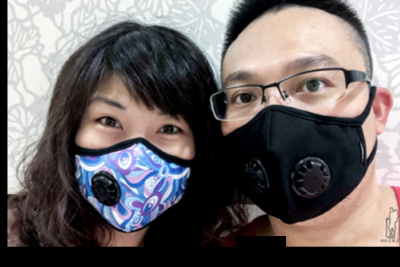with_mask: (219, 53, 370, 226), (71, 93, 197, 234)
